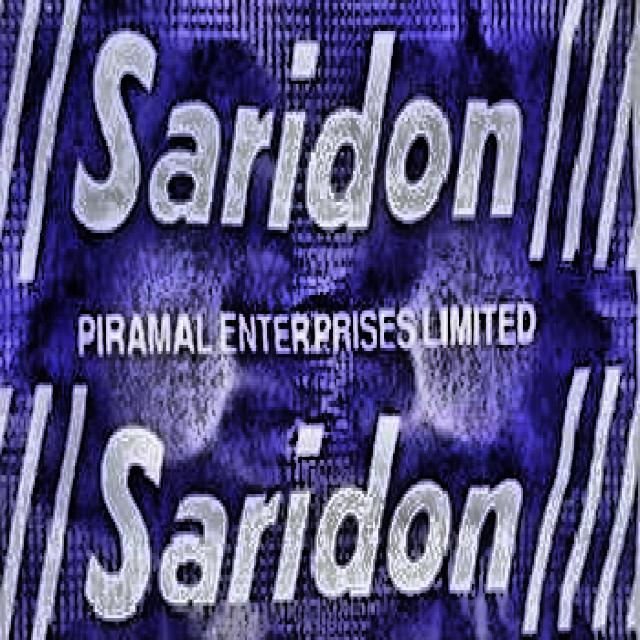Saridon: (58, 0, 565, 272), (59, 398, 602, 601)
